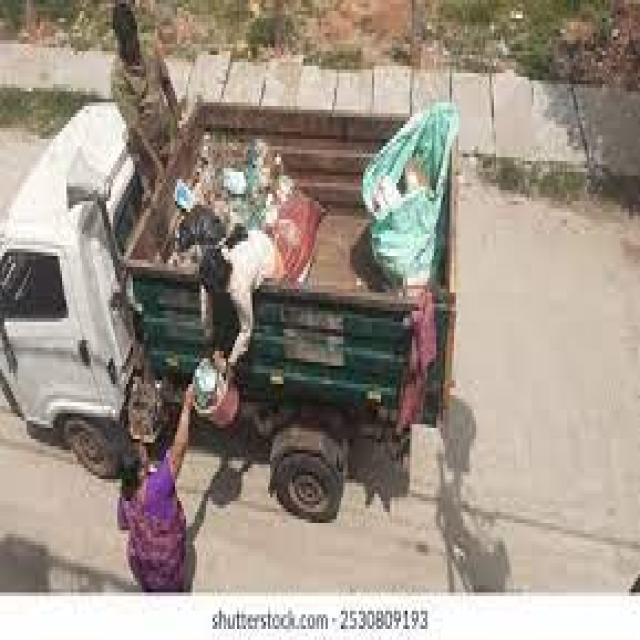uncovered: (46, 56, 448, 448)
